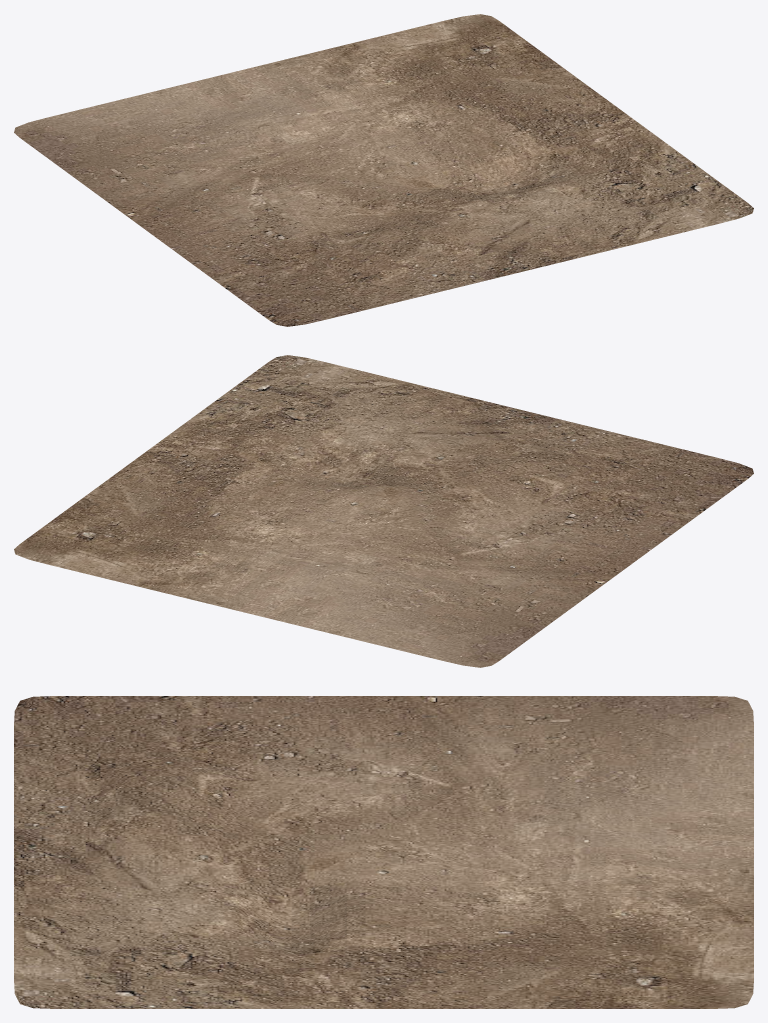
File: Parque_03.fbx
3 views of the same model, one above another, from view 1: azimuth 30°, elevation 25°; view 2: azimuth 150°, elevation 25°; view 3: azimuth 270°, elevation 25° (orthographic). The views are drawn at different scales.
Visible parts, largest first — view 1: Plane.001; view 2: Plane.001; view 3: Plane.001.
Boxes of the visible parts, left/top/right/bottom form: Plane.001: left=14, top=14, right=753, bottom=326; Plane.001: left=14, top=355, right=753, bottom=667; Plane.001: left=14, top=696, right=753, bottom=1008.
Size of the model in its own units: 600 by 21.44 by 600.
